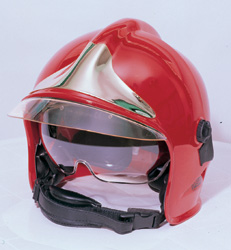helmet: (26, 17, 212, 226)
